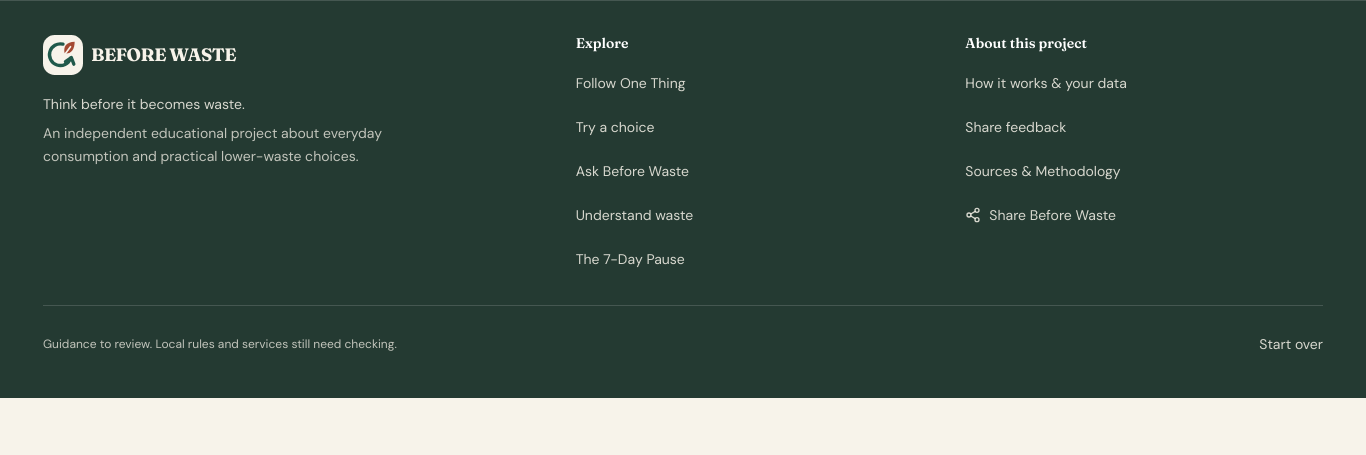
Test: offers manual copying after a share failure and shows success only after copying succeeds
The width and height of the screenshot is (1366, 455).
Click the button "Share Before Waste".
click(1041, 215)  # box x1=965 y1=193 x2=1116 y2=237
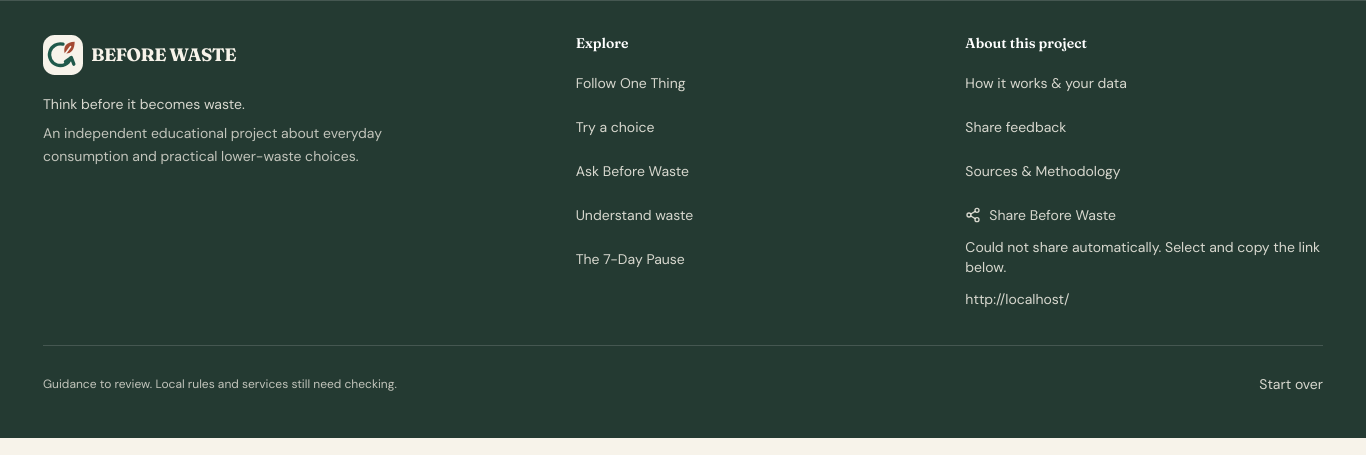
Now the message "Could not share automatically. Select and copy the link below." is shown, box x1=965 y1=237 x2=1323 y2=277
Click the button "Share Before Waste".
click(1041, 215)  # box x1=965 y1=193 x2=1116 y2=237
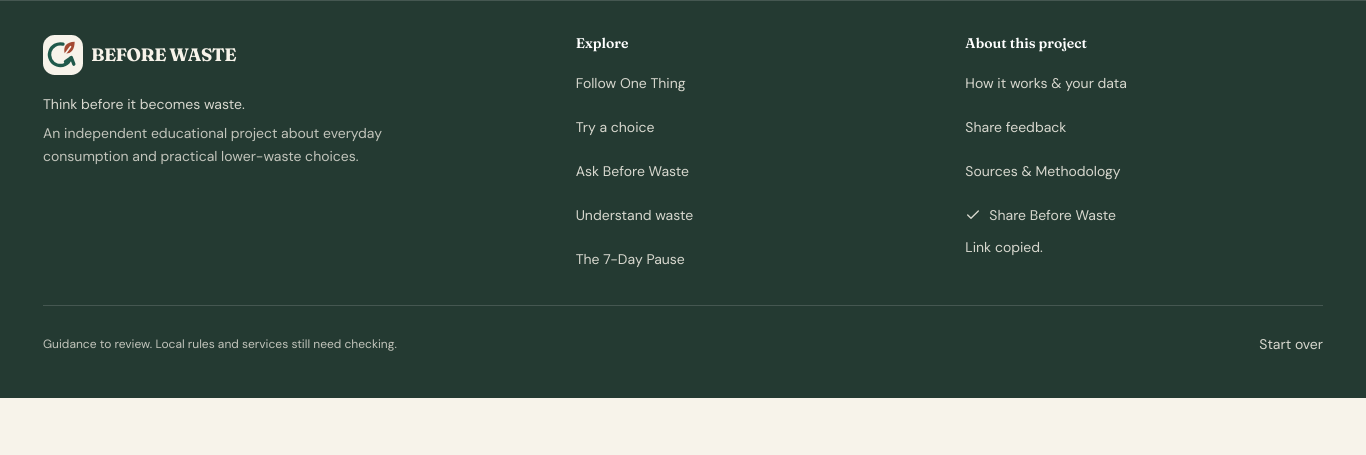
Expected: the icon with class "lucide-check" is shown, x1=965 y1=207 x2=981 y2=223
Now the message "Link copied." is shown, box x1=965 y1=238 x2=1043 y2=256
